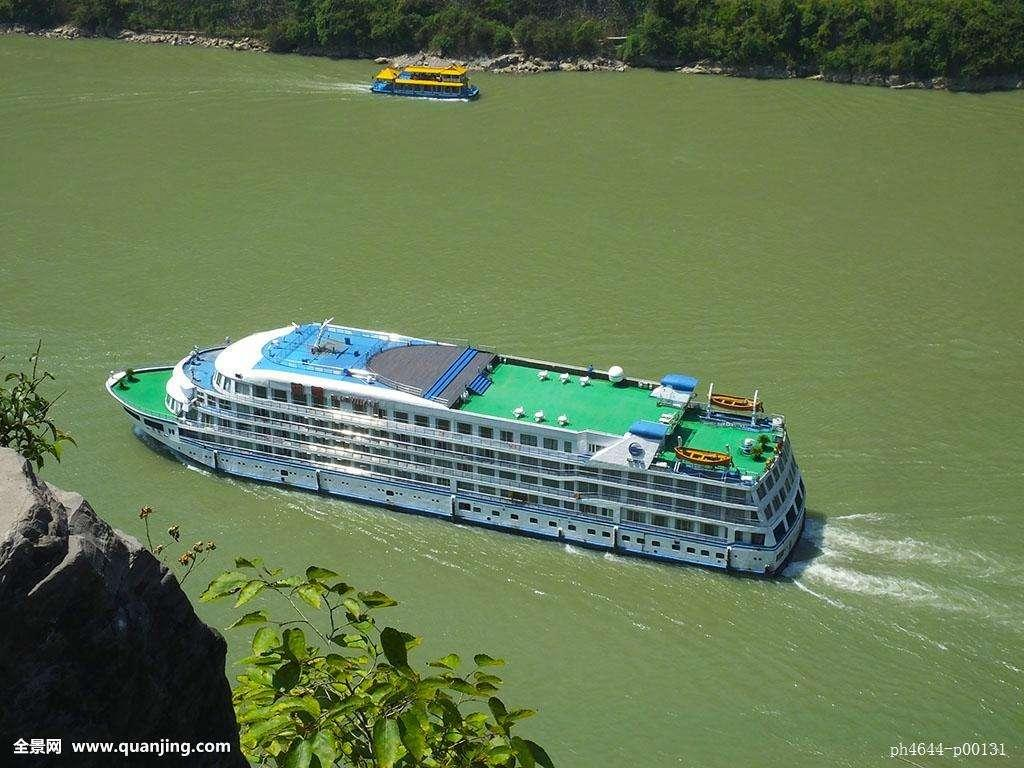otherboat: (371, 49, 475, 99)
youlun: (85, 311, 809, 579)
